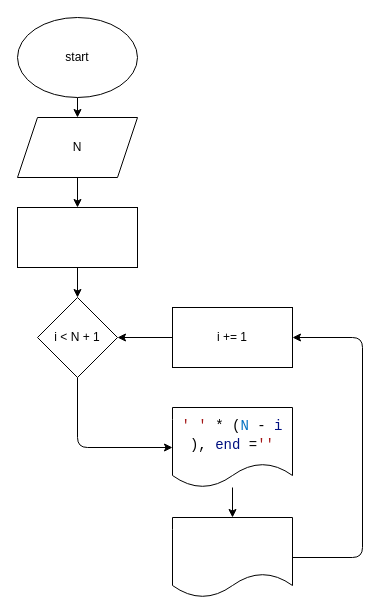
The diagram is 388 pixels wide and 615 high, and some of its shapes have lost their labels. The box of each missing label's shape, as (x1, y1, x2, y2) in pixels:
'*' * ( 2 * i - 1 ): (172, 516, 292, 598)
i = 1: (16, 206, 138, 268)
